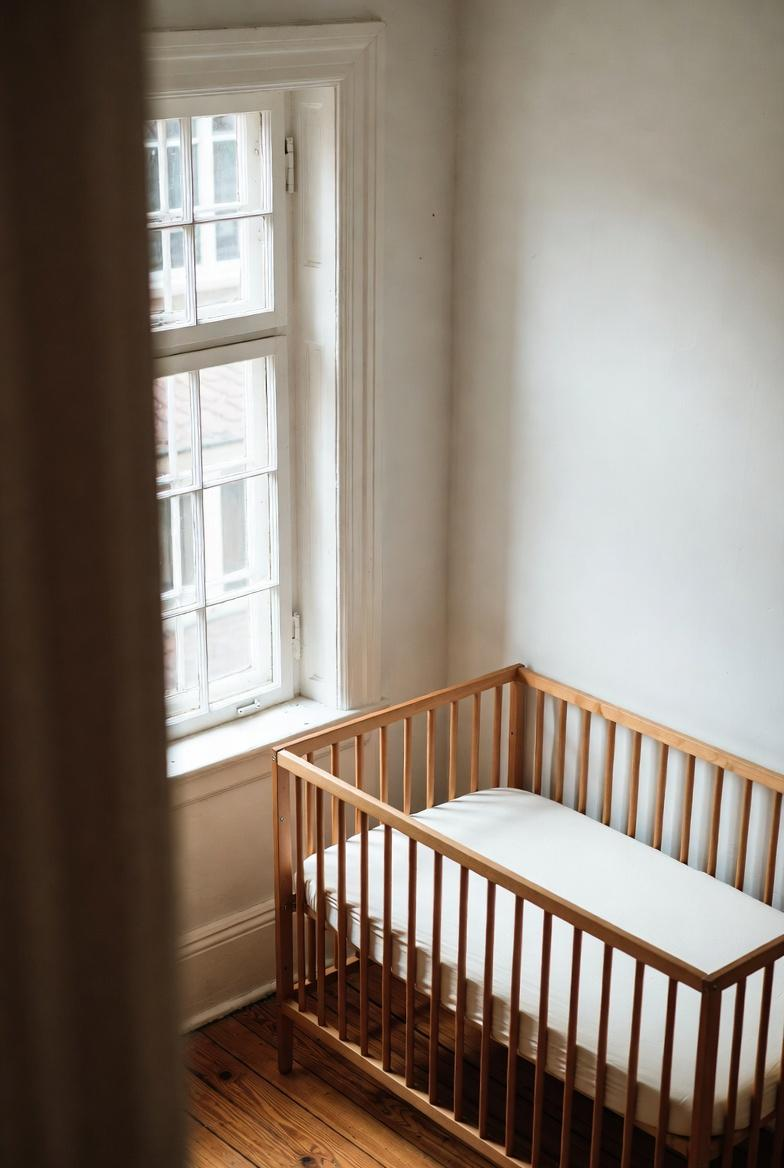crib: (275, 665, 784, 1168)
